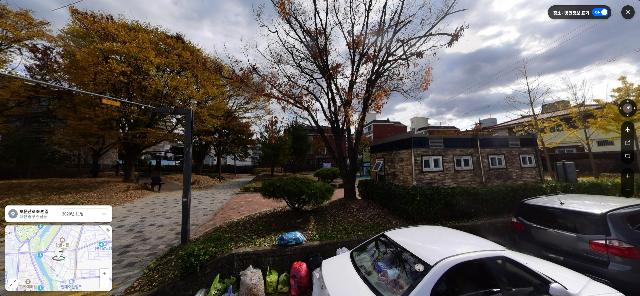ginkgo: (493, 57, 560, 182), (556, 63, 612, 179), (604, 70, 640, 175)
other: (209, 0, 472, 201), (57, 6, 259, 183), (0, 0, 86, 172), (258, 116, 312, 176)
